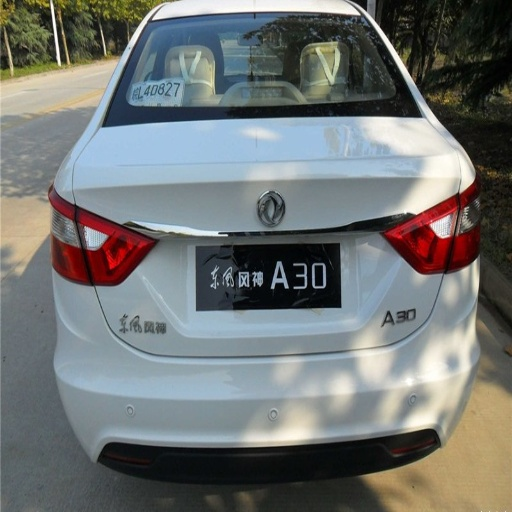back_bumper: (7, 260, 475, 489)
tailgate: (71, 117, 460, 348)
